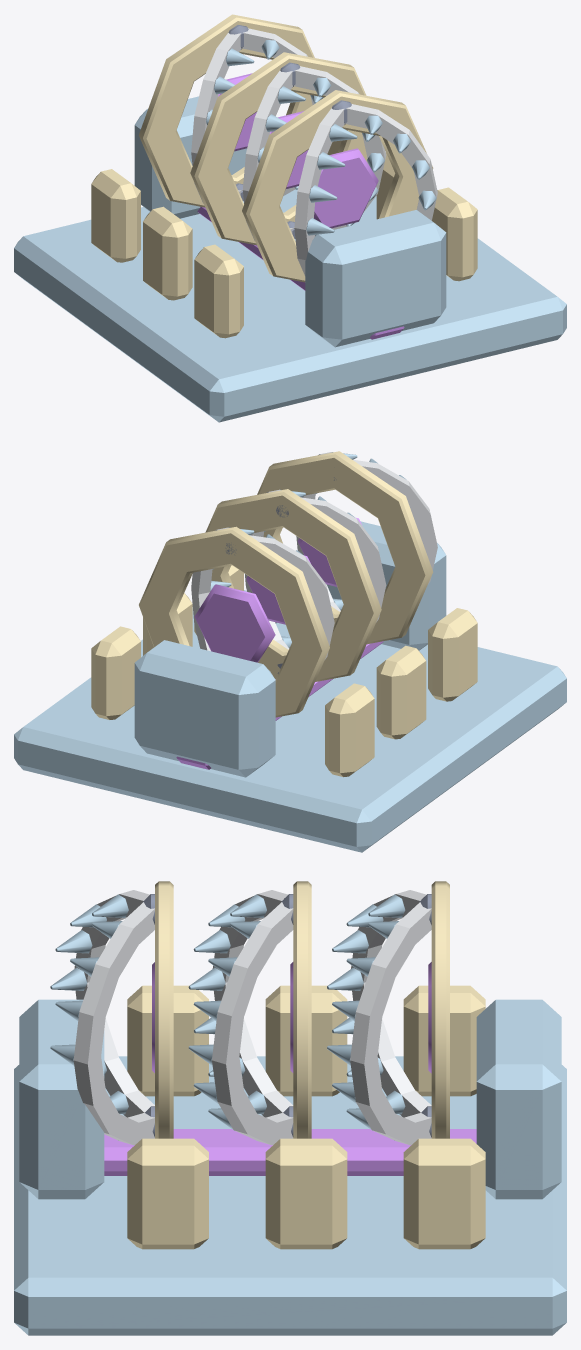
Rendered from R4X_SnareTrapDeployer_LOD1.fbx.
The picture shows the model from 3 angles, top to bottom: view 1: azimuth 30°, elevation 25°; view 2: azimuth 150°, elevation 25°; view 3: azimuth 270°, elevation 25°; orthographic projection. The views are drawn at different scales.
Parts seen in each view (by area): view 1: R4X_SnareTrapDeployer_LOD1; view 2: R4X_SnareTrapDeployer_LOD1; view 3: R4X_SnareTrapDeployer_LOD1.
Boxes of the visible parts, bbox=[...] form: R4X_SnareTrapDeployer_LOD1: bbox=[14, 14, 566, 422]; R4X_SnareTrapDeployer_LOD1: bbox=[14, 451, 566, 852]; R4X_SnareTrapDeployer_LOD1: bbox=[14, 881, 566, 1335].
Bounding box in the file's own units: 0.52 × 0.3513 × 0.52.
